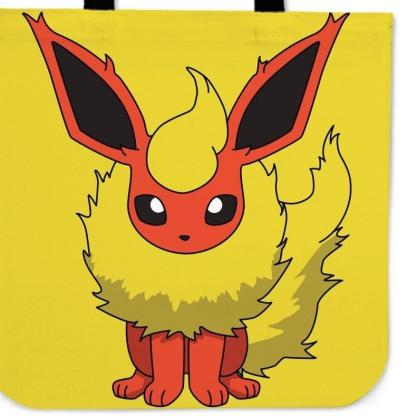Flareon: (14, 10, 372, 410)
